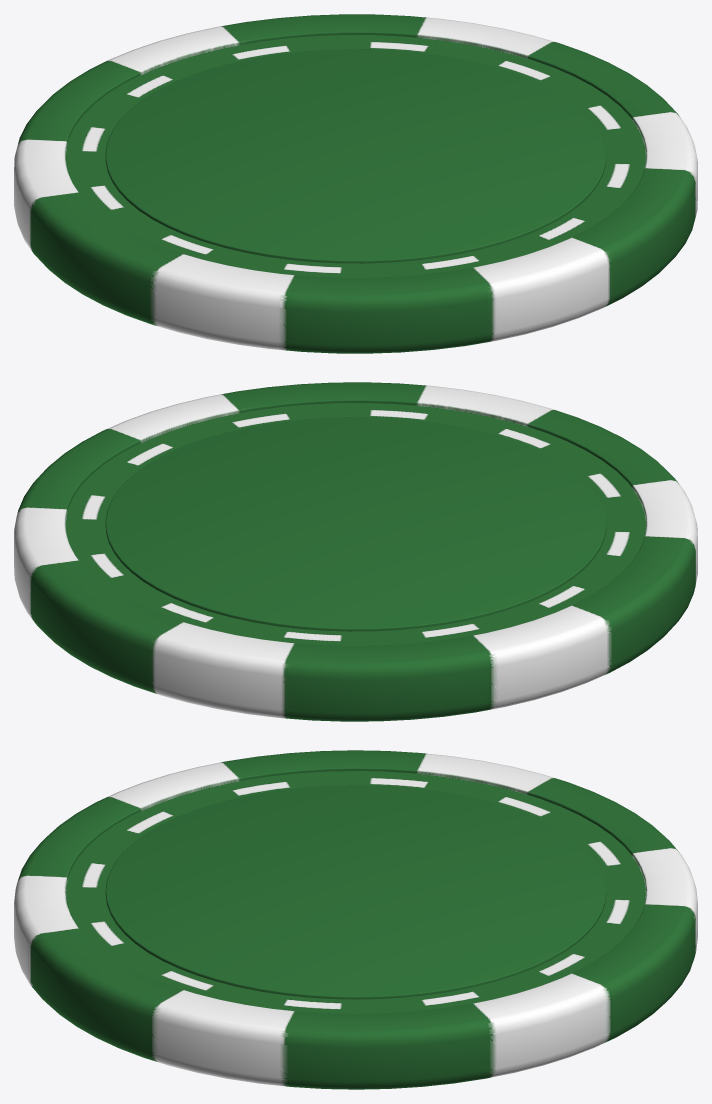
File: green.glb
The picture shows the model from 3 angles, top to bottom: view 1: azimuth 30°, elevation 25°; view 2: azimuth 150°, elevation 25°; view 3: azimuth 270°, elevation 25°; orthographic projection.
Parts seen in each view (by area): view 1: chips.511_chips_green_bake_0; view 2: chips.511_chips_green_bake_0; view 3: chips.511_chips_green_bake_0.
Boxes of the visible parts, x1,y1,x2,y2 form: chips.511_chips_green_bake_0: [14, 14, 697, 353]; chips.511_chips_green_bake_0: [14, 382, 697, 721]; chips.511_chips_green_bake_0: [14, 750, 697, 1089].
Bounding box in the file's own units: 2 × 0.1882 × 2.
Materials: 1 (1 with a texture image).
